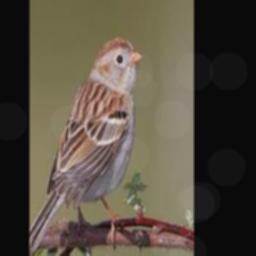Sparrow: (30, 36, 142, 256)
